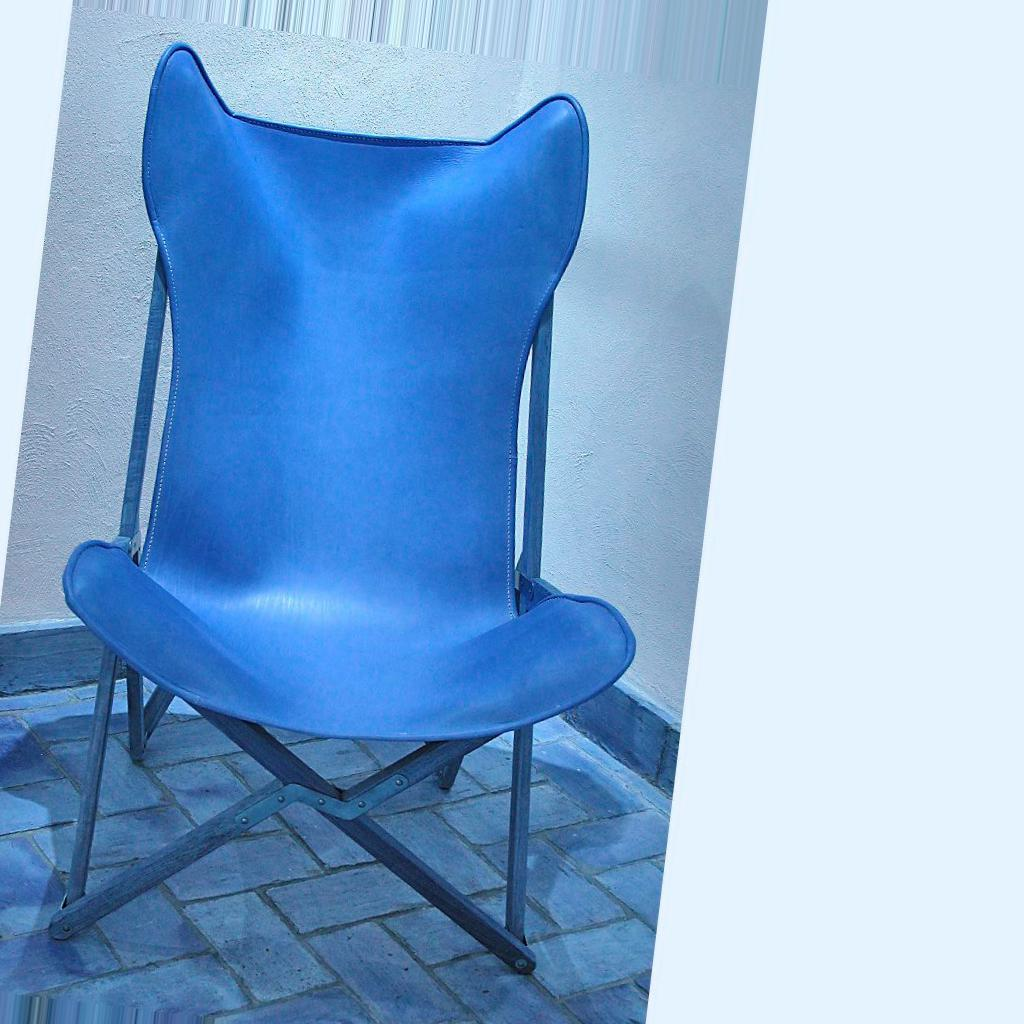chair: (49, 39, 638, 980)
